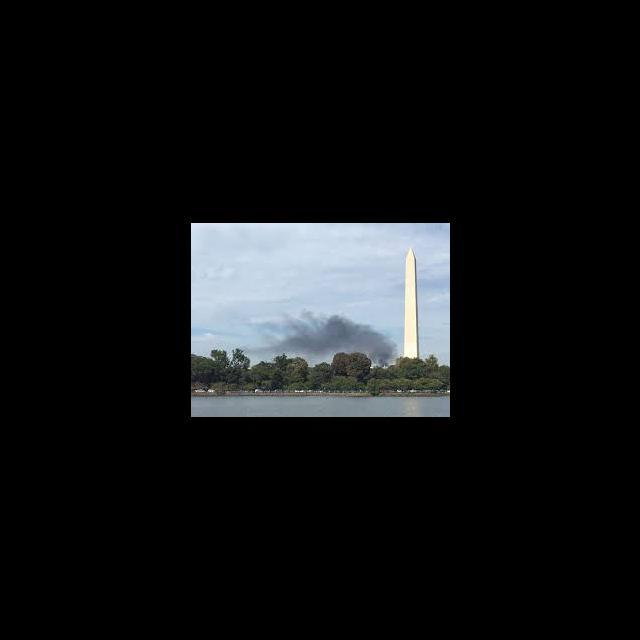Smoke: (263, 309, 395, 361)
